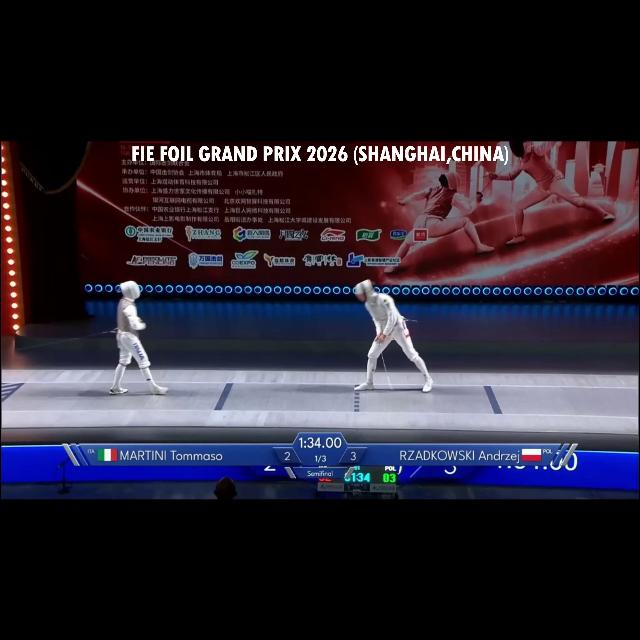blade: (375, 336, 397, 396)
